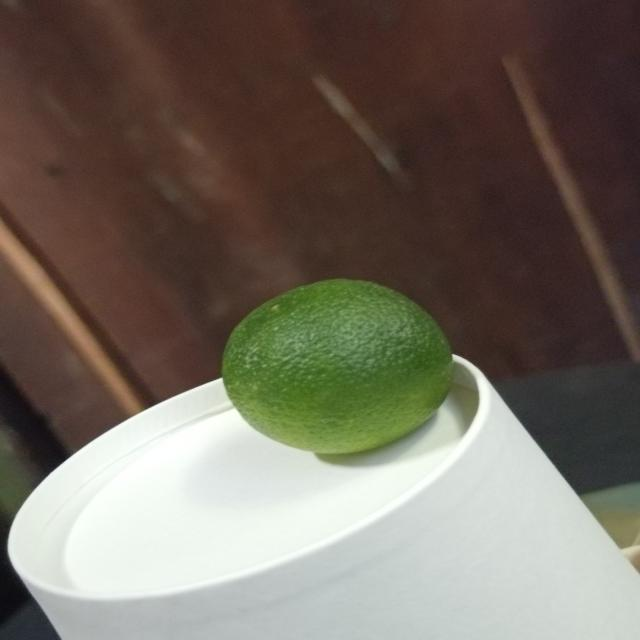heathy: (216, 280, 457, 462)
